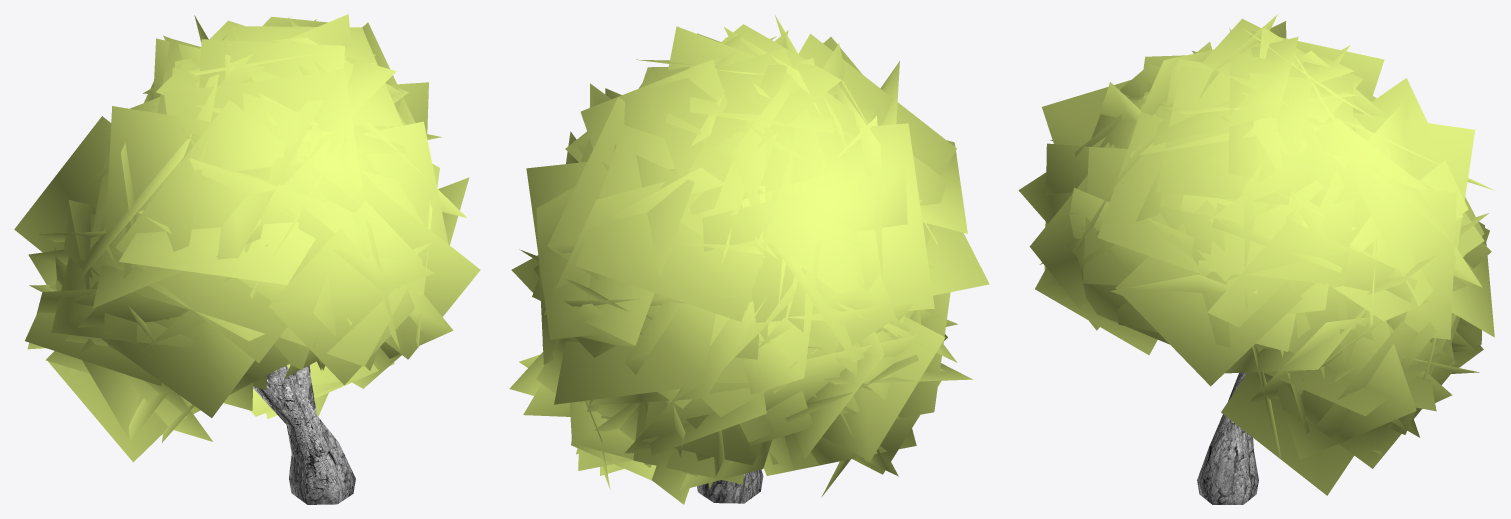
Rendered from tree1.fbx.
3 renders of one model, left to right at view 1: azimuth 30°, elevation 25°; view 2: azimuth 150°, elevation 25°; view 3: azimuth 270°, elevation 25°, orthographic. The views are drawn at different scales.
Visible parts, largest first — view 1: Leaves, Tree0; view 2: Leaves, Tree0; view 3: Leaves, Tree0.
Part boxes in pixels (<box>): Leaves: <box>14,14,480,462</box>; Tree0: <box>253,364,355,504</box>; Leaves: <box>509,15,989,504</box>; Tree0: <box>697,469,763,503</box>; Leaves: <box>1018,14,1495,495</box>; Tree0: <box>1197,372,1258,504</box>.
Bounding box in the file's own units: 15.63 × 16.95 × 16.75.
